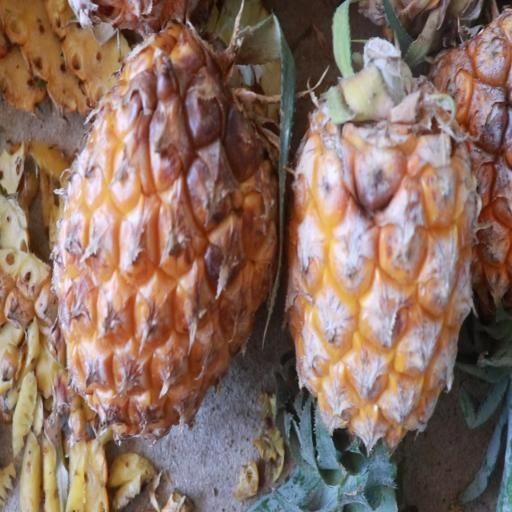Pineapple - v8 v1: (43, 0, 284, 445), (278, 33, 479, 506)
